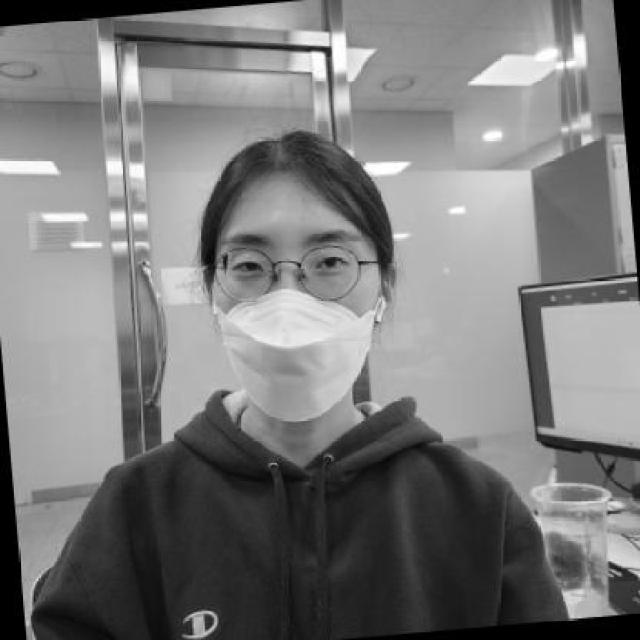earphone: (368, 289, 410, 355)
laptop_computer: (481, 176, 640, 524)
